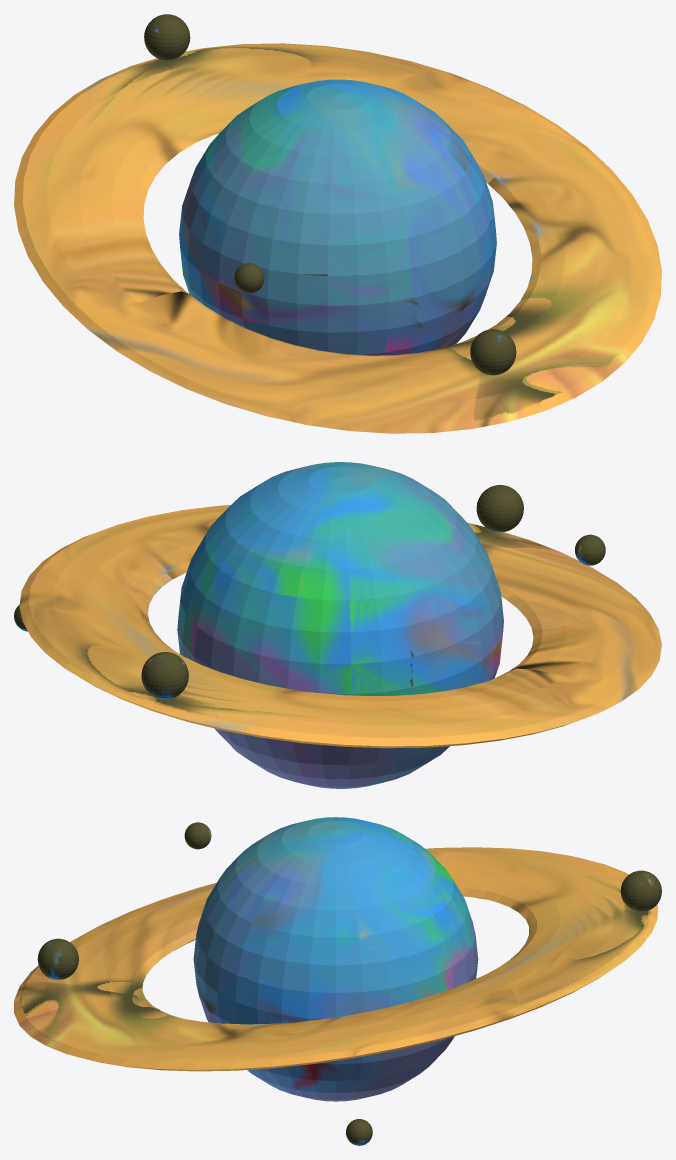
The model's file is planet v1.fbx.
The picture shows the model from 3 angles, top to bottom: view 1: azimuth 30°, elevation 25°; view 2: azimuth 150°, elevation 25°; view 3: azimuth 270°, elevation 25°; orthographic projection. The views are drawn at different scales.
Visible parts, largest first — view 1: Sphere; view 2: Sphere; view 3: Sphere.
Boxes of the visible parts, x1=… form: Sphere: x1=14, y1=14, x2=661, y2=433; Sphere: x1=14, y1=462, x2=661, y2=788; Sphere: x1=14, y1=817, x2=661, y2=1145.
Size of the model in its own units: 1183 by 577 by 1314.
1 material, 1 textured.
